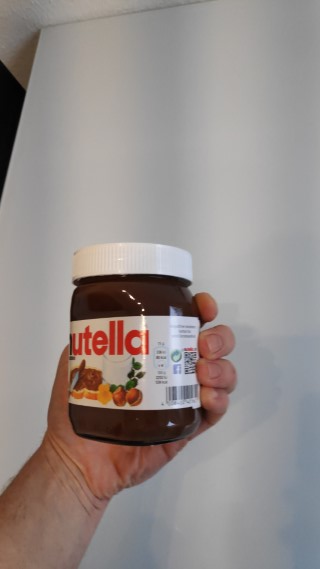nutella: (64, 238, 202, 447)
